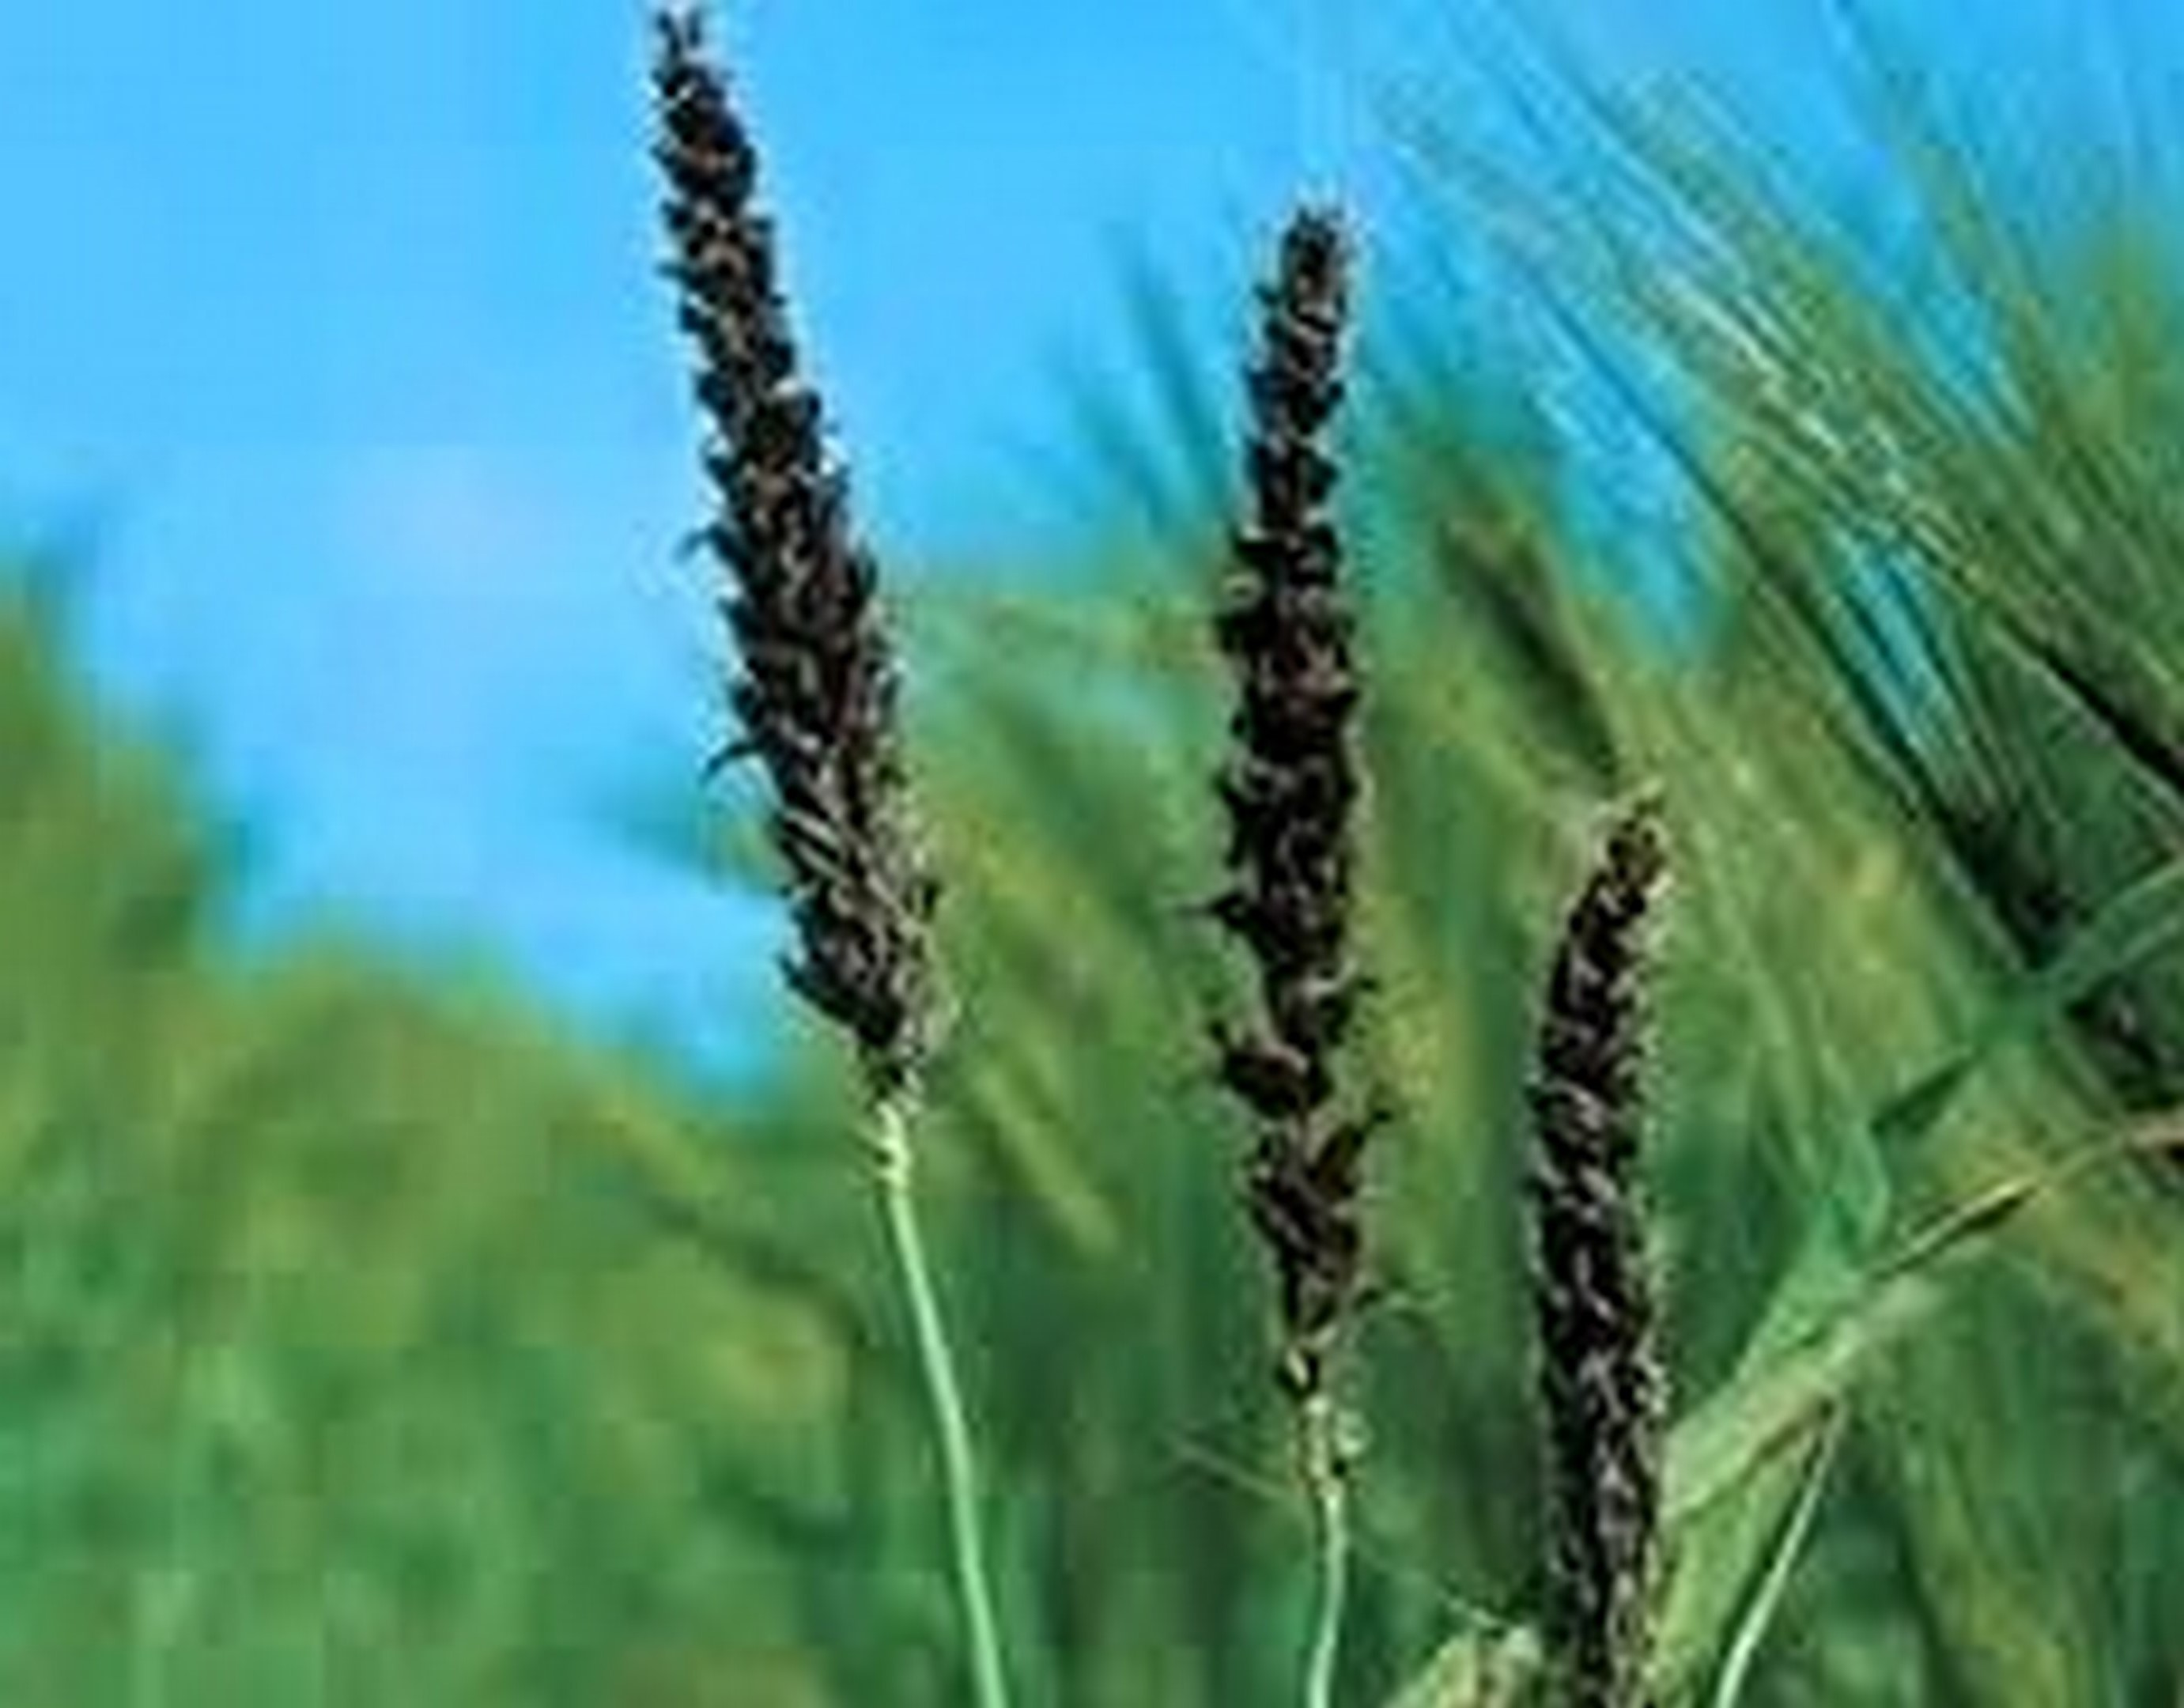Wheat Loose Smut: (583, 12, 968, 1043), (1175, 167, 1425, 1343), (1484, 747, 1727, 1637)
